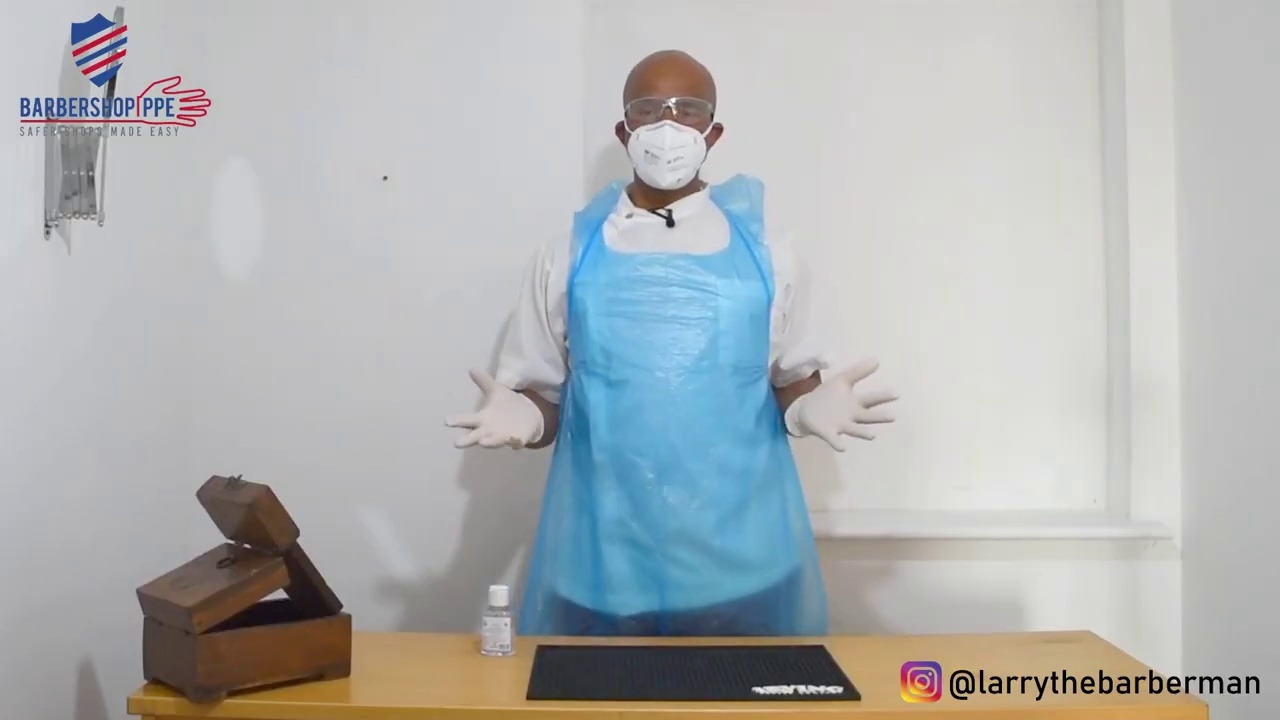Apron: (549, 170, 824, 641)
Glove: (792, 350, 918, 480), (444, 344, 552, 480), (872, 342, 875, 348)
Mask: (618, 118, 727, 189)
No_Hairnet: (617, 44, 727, 100)
